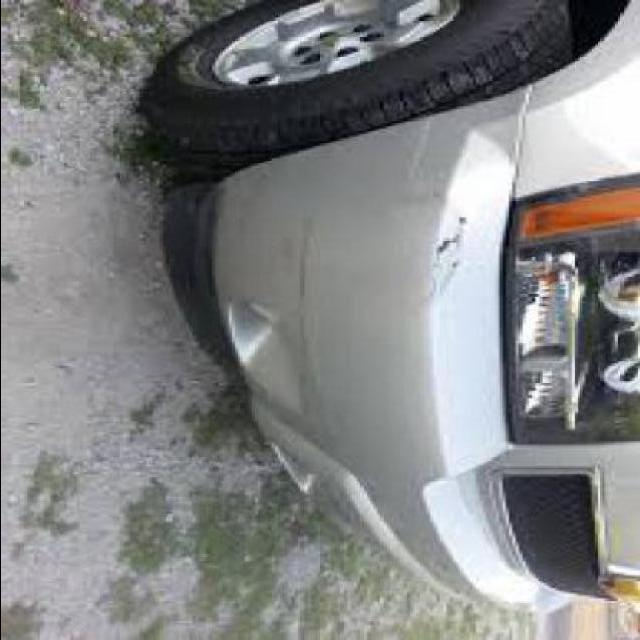front-bumper-dent: (204, 66, 547, 410)
